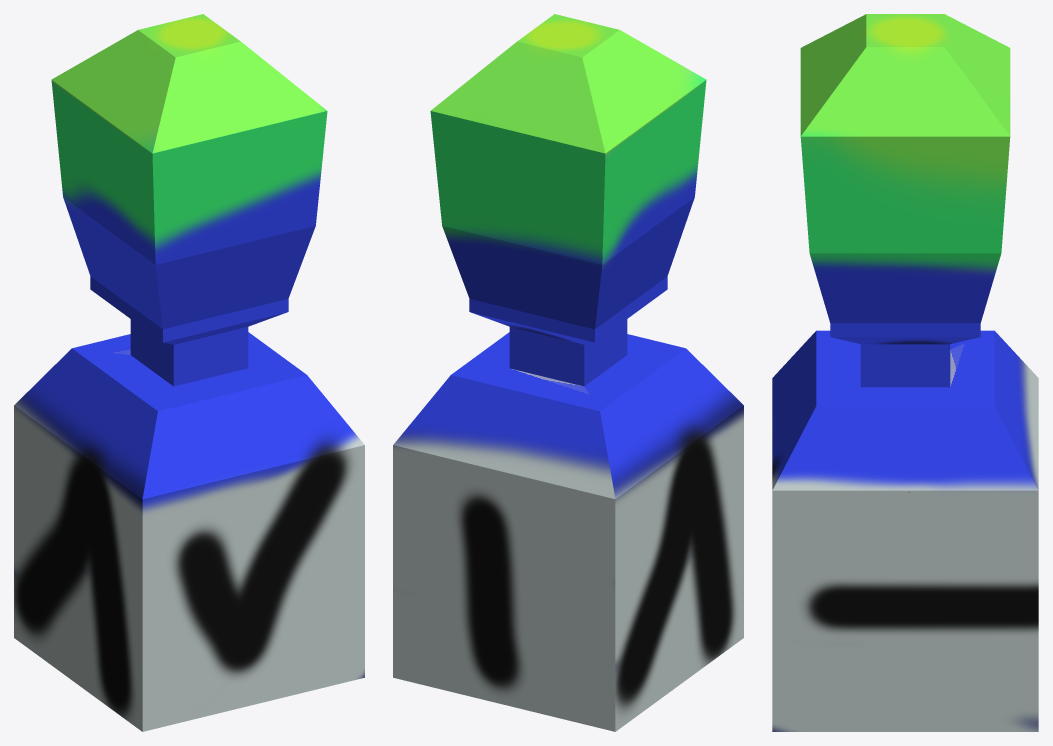
Rendered from idk.glb.
3 renders of one model, left to right at view 1: azimuth 30°, elevation 25°; view 2: azimuth 150°, elevation 25°; view 3: azimuth 270°, elevation 25°, orthographic. The views are drawn at different scales.
Parts seen in each view (by area): view 1: Cube; view 2: Cube; view 3: Cube.
Boxes of the visible parts, x1,y1,x2,y2 form: Cube: (14, 14, 364, 731); Cube: (393, 14, 743, 731); Cube: (772, 14, 1038, 731).
Size of the model in its own units: 2 by 5.35 by 2.
Materials: 1 (1 with a texture image).
